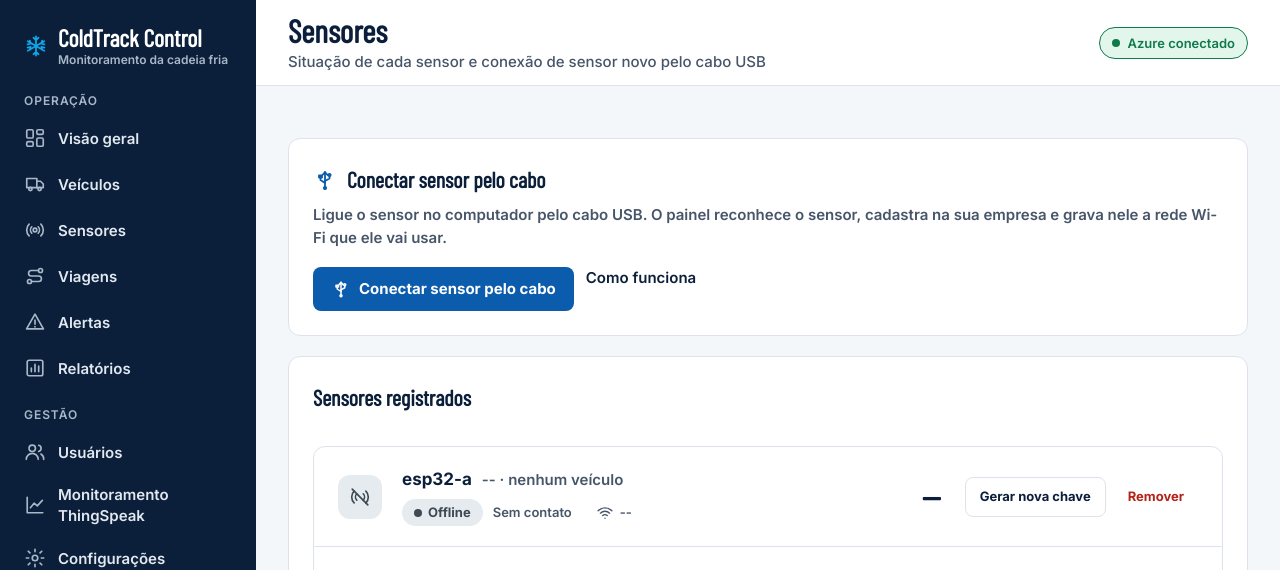
Scenario: Sensores - conectar pelo cabo › senha da rede errada: mostra a mensagem da placa e mantém a chave para a nova tentativa
Click the button "Conectar sensor pelo cabo".
click(443, 289)  # box [313, 267, 574, 311]
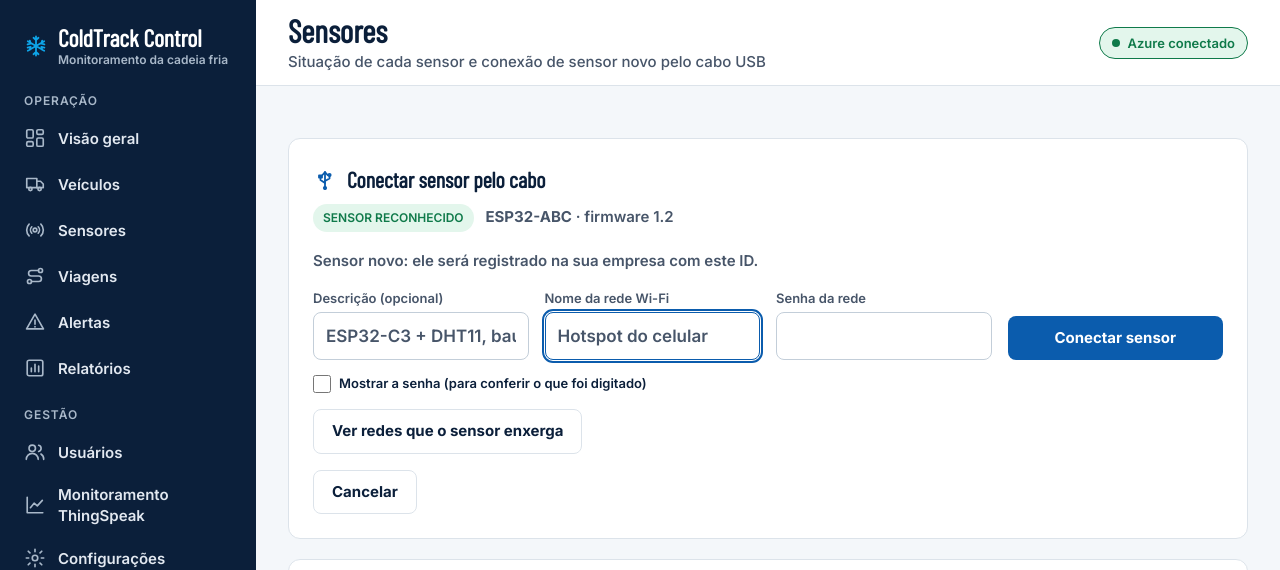
Now the text "SENSOR RECONHECIDO" is shown, box [313, 204, 474, 232]
Type "Baú novo" into the field labelled "Descrição (opcional)".
click(421, 336); type("Baú novo")  # box [313, 312, 528, 360]
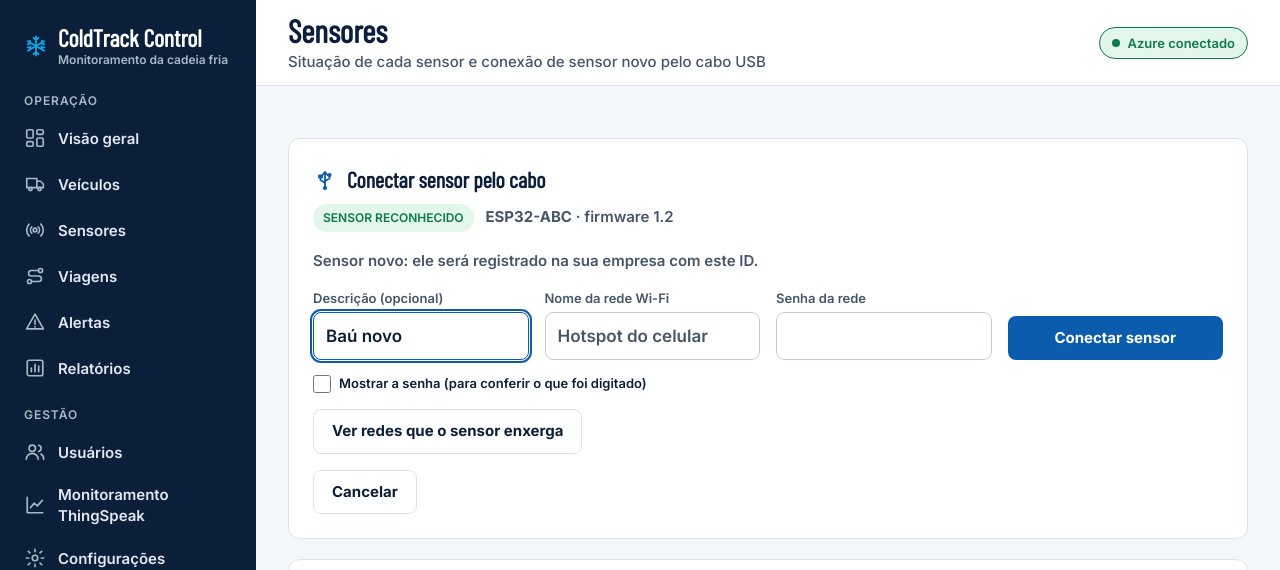
Type "Hotspot" into the field labelled "Nome da rede Wi-Fi".
click(652, 336); type("Hotspot")  # box [544, 312, 760, 360]
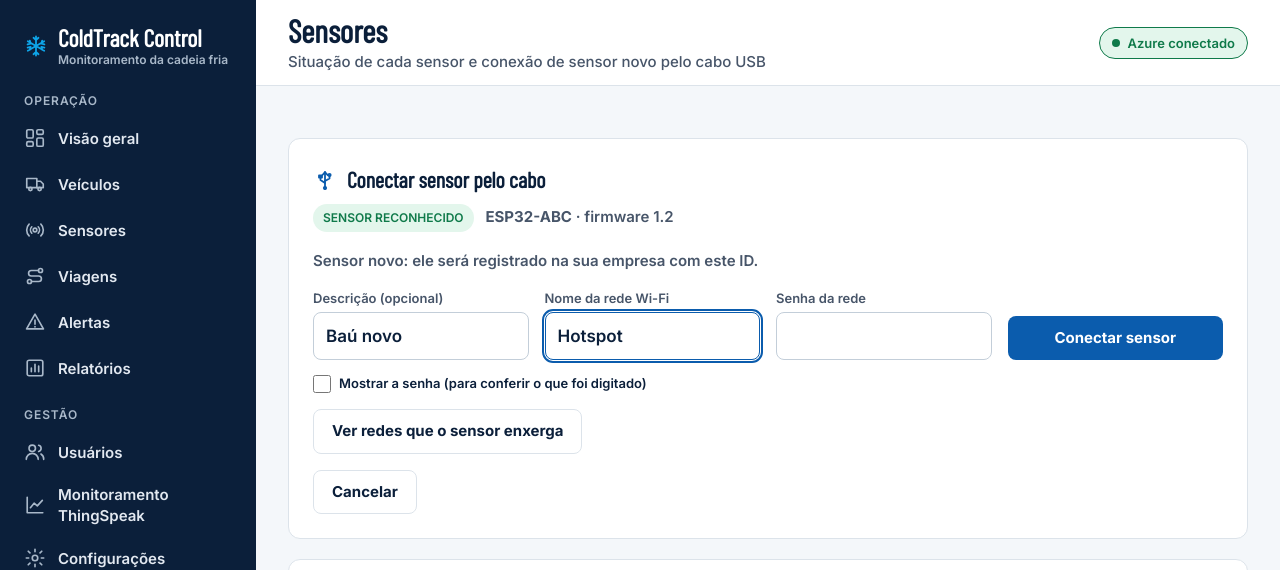
Type "senha-errada" into the password field labelled "Senha da rede".
click(884, 336); type("senha-errada")  # box [776, 312, 992, 360]
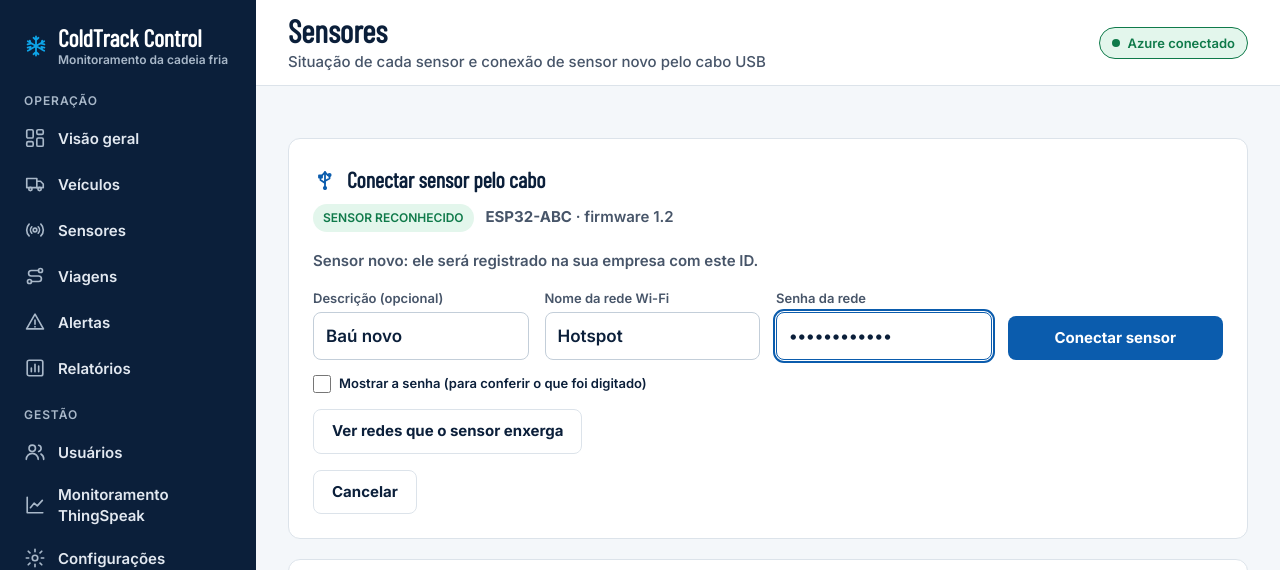
Submit the form with id "formCabo", box [313, 289, 1223, 360]
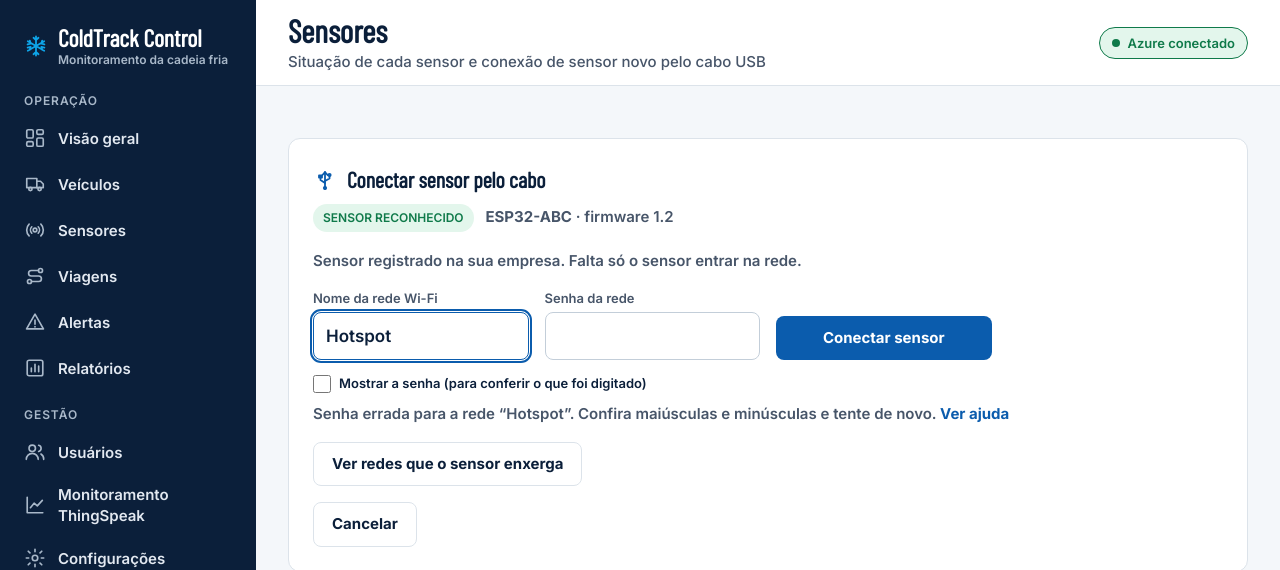
Now the text "Senha errada para a rede “Hotspot”. Confira maiúsculas e minúsculas e tente de novo." is shown, box [313, 404, 936, 423]
Submit the form with id "formCabo", box [313, 290, 992, 360]
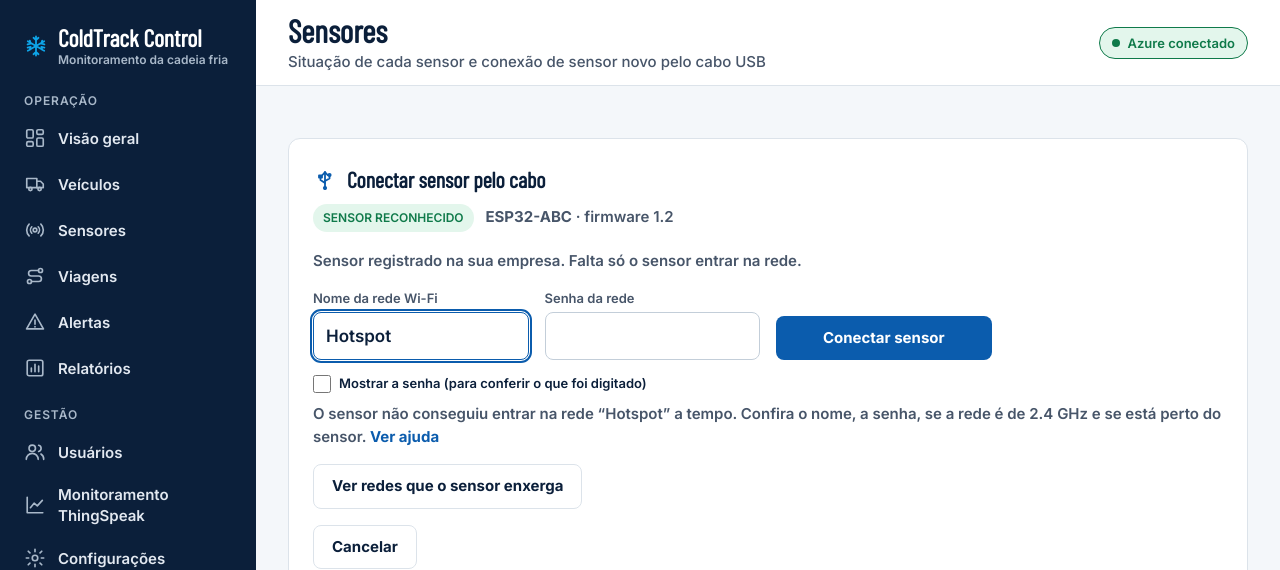
Now the text "não conseguiu entrar na rede “Hotspot” a tempo" is shown, box [313, 404, 1221, 446]
